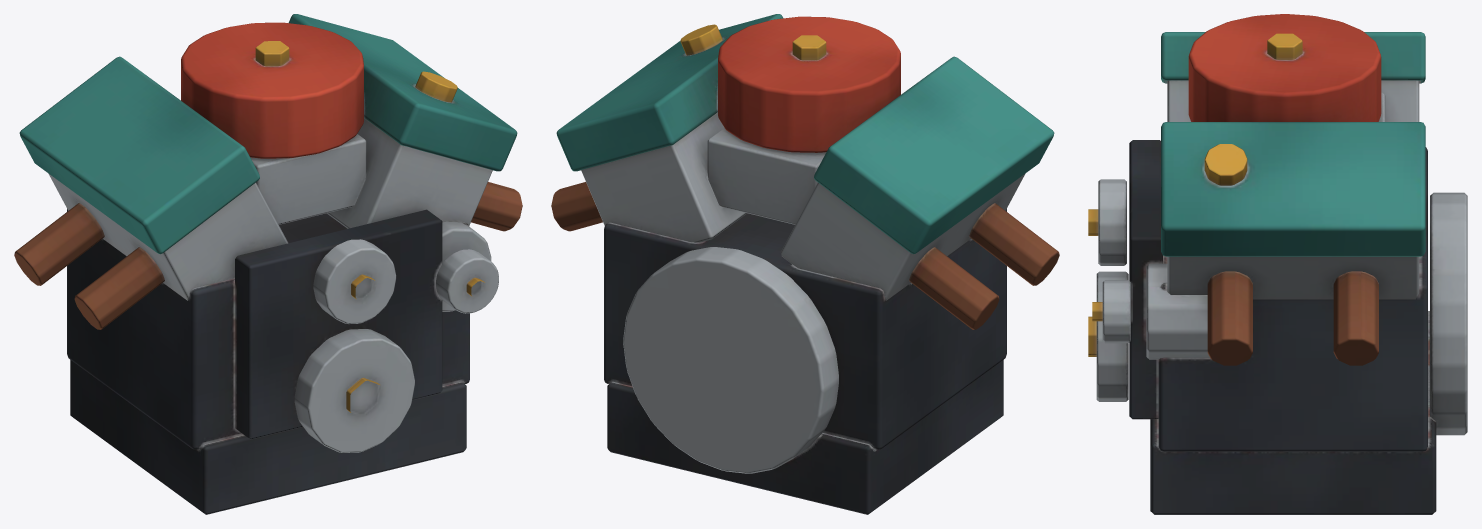
Rendered from engine-v001.glb.
3 renders of one model, left to right at view 1: azimuth 30°, elevation 25°; view 2: azimuth 150°, elevation 25°; view 3: azimuth 270°, elevation 25°, orthographic. The views are drawn at different scales.
Parts seen in each view (by area): view 1: Engine; view 2: Engine; view 3: Engine.
Boxes of the visible parts, x1,y1,x2,y2 form: Engine: (14, 14, 522, 514); Engine: (551, 14, 1059, 514); Engine: (1088, 14, 1467, 514).
Size of the model in its own units: 0.6295 by 0.5375 by 0.4515.
1 material, 1 textured.
